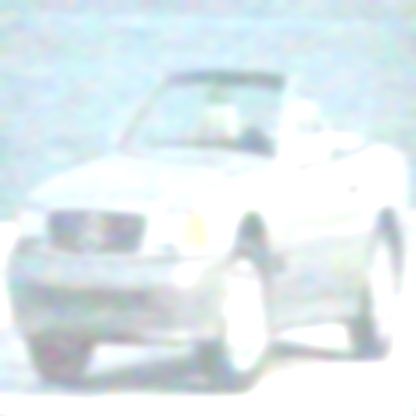Vehicle: (2, 39, 415, 414)
